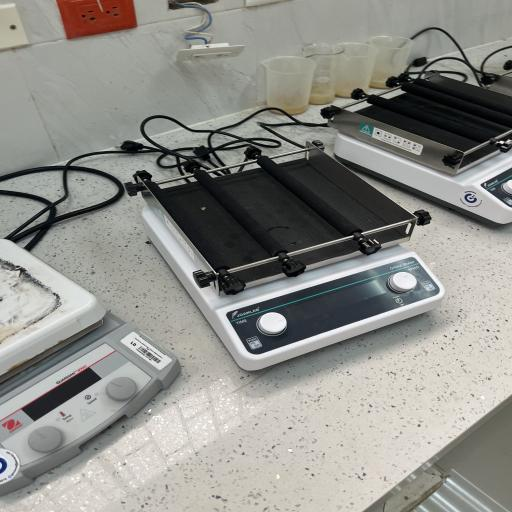Agitador_Orbital_DLAB: (82, 134, 475, 378)
